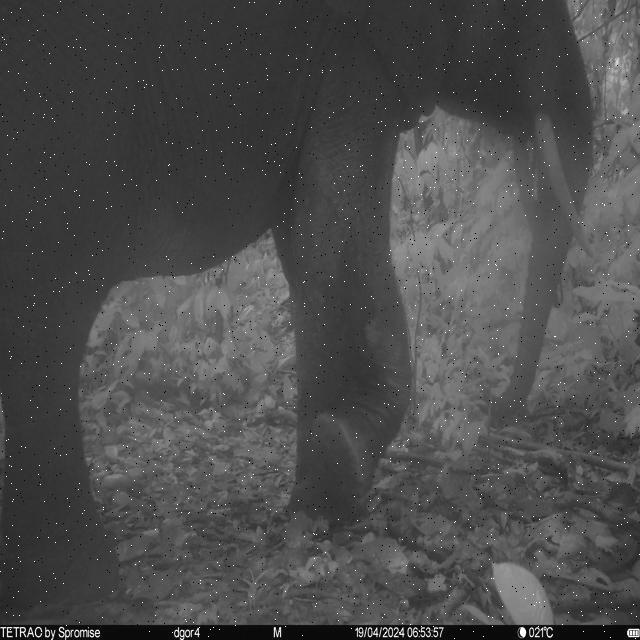elephant: (1, 1, 596, 623)
tusk: (537, 114, 596, 258), (513, 133, 539, 240)
